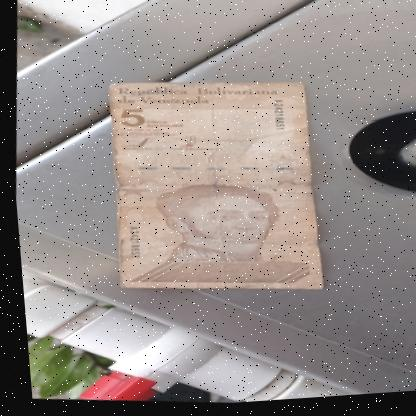five-front-vef: (88, 67, 336, 308)
